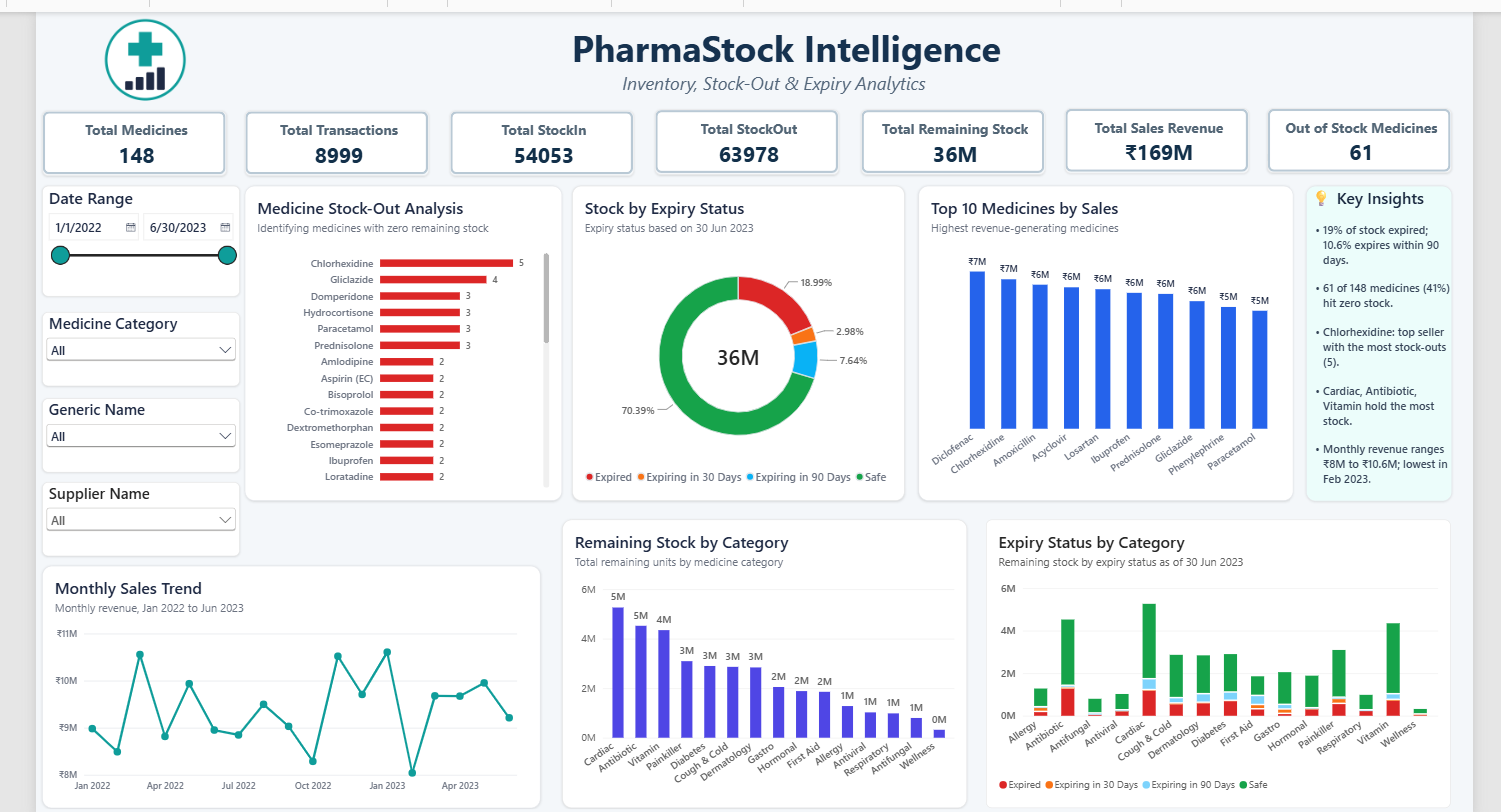

The dashboard page shown, as its layout file describes it:
{"tool":"powerbi","page":{"name":"Page 1","canvas":[1920,1080],"ordinal":0},"visuals":[{"type":"textbox","box":[9,14.5,1882,101.3],"z":0},{"type":"cardVisual","fields":{"Data":["Measure_.Total Medicines"]},"box":[9,132.1,246.1,86.9],"z":1000},{"type":"cardVisual","fields":{"Data":["Measure_.Total Transactions"]},"box":[278.7,132.1,246,86.9],"z":2000},{"type":"cardVisual","fields":{"Data":["Measure_.Total StockIn"]},"box":[551.9,132.1,246,86.9],"z":3000},{"type":"cardVisual","fields":{"Data":["Measure_.Total StockOut"]},"box":[827,130.3,246,86.9],"z":4000},{"type":"cardVisual","fields":{"Data":["Measure_.Total Stock"]},"box":[1102.1,130.3,246,86.9],"z":5000},{"type":"cardVisual","fields":{"Data":["Measure_.Total sales"]},"box":[1373.5,128.5,246,86.9],"z":6000},{"type":"lineChart","title":"Monthly Sales Trend","fields":{"Category":["DateTable.Month Start"],"Y":["Measure_.Total sales"]},"box":[9,740.2,666,323.9],"z":7000},{"type":"clusteredColumnChart","title":"Top 10 Medicines by Sales","fields":{"Category":["Medicine.Generic_Name"],"Y":["Measure_.Total sales"]},"box":[1178.9,232.1,500.9,420.8],"z":8000},{"type":"columnChart","title":"Remaining Stock by Category","fields":{"Category":["Medicine.Medicine_Category"],"Y":["Measure_.Total Remaining Stock"]},"box":[703,677.9,541,385.7],"z":9000},{"type":"clusteredBarChart","title":"Medicine Stock-Out Analysis","fields":{"Category":["Medicine.Generic_Name"],"Y":["Measure_.Out of Stock Medicines"]},"box":[278.9,232.1,424.1,420.8],"z":10000},{"type":"cardVisual","fields":{"Data":["Measure_.Out of Stock Medicines"]},"box":[1645,128.5,246,86],"z":11000},{"type":"slicer","fields":{"Values":["Sales.Transaction_Date"]},"box":[9,231.6,264.2,148.4],"z":12000},{"type":"slicer","fields":{"Values":["Medicine.Medicine_Category"]},"box":[9,399.9,264.2,99],"z":13000},{"type":"slicer","fields":{"Values":["Medicine.Generic_Name"]},"box":[9,515.8,264.2,99.5],"z":14000},{"type":"slicer","fields":{"Values":["Suppliers.Supplier_Name"]},"box":[9,628,264,99],"z":15000},{"type":"donutChart","title":"Stock by Expiry Status","fields":{"Category":["Inventory.Expiry Status"],"Y":["Measure_.Total Remaining Stock"]},"box":[716.3,232.1,444.2,420.8],"z":16000},{"type":"columnChart","title":"Expiry Status by Category","fields":{"Category":["Medicine.Medicine_Category"],"Series":["Inventory.Expiry Status"],"Y":["Measure_.Total Remaining Stock"]},"box":[1269,677.9,621.2,385.7],"z":17000},{"type":"image","box":[48.9,7.2,195.4,114],"z":18000},{"type":"textbox","box":[1695.7,231.6,195.4,421.7],"z":18001}]}

Visuals, with their boxes on the page's 1920x1080 design canvas (x1, y1, x2, y2). These are canvas units, not pixel positions in the 1501x812 screenshot, which may show the page scaled, cropped or inside an application window:
textbox: [left=9, top=14, right=1891, bottom=116]
cardVisual - Measure_.Total Medicines: [left=9, top=132, right=255, bottom=219]
cardVisual - Measure_.Total Transactions: [left=279, top=132, right=525, bottom=219]
cardVisual - Measure_.Total StockIn: [left=552, top=132, right=798, bottom=219]
cardVisual - Measure_.Total StockOut: [left=827, top=130, right=1073, bottom=217]
cardVisual - Measure_.Total Stock: [left=1102, top=130, right=1348, bottom=217]
cardVisual - Measure_.Total sales: [left=1374, top=128, right=1620, bottom=215]
"Monthly Sales Trend" lineChart: [left=9, top=740, right=675, bottom=1064]
"Top 10 Medicines by Sales" clusteredColumnChart: [left=1179, top=232, right=1680, bottom=653]
"Remaining Stock by Category" columnChart: [left=703, top=678, right=1244, bottom=1064]
"Medicine Stock-Out Analysis" clusteredBarChart: [left=279, top=232, right=703, bottom=653]
cardVisual - Measure_.Out of Stock Medicines: [left=1645, top=128, right=1891, bottom=214]
slicer - Sales.Transaction_Date: [left=9, top=232, right=273, bottom=380]
slicer - Medicine.Medicine_Category: [left=9, top=400, right=273, bottom=499]
slicer - Medicine.Generic_Name: [left=9, top=516, right=273, bottom=615]
slicer - Suppliers.Supplier_Name: [left=9, top=628, right=273, bottom=727]
"Stock by Expiry Status" donutChart: [left=716, top=232, right=1160, bottom=653]
"Expiry Status by Category" columnChart: [left=1269, top=678, right=1890, bottom=1064]
image: [left=49, top=7, right=244, bottom=121]
textbox: [left=1696, top=232, right=1891, bottom=653]
